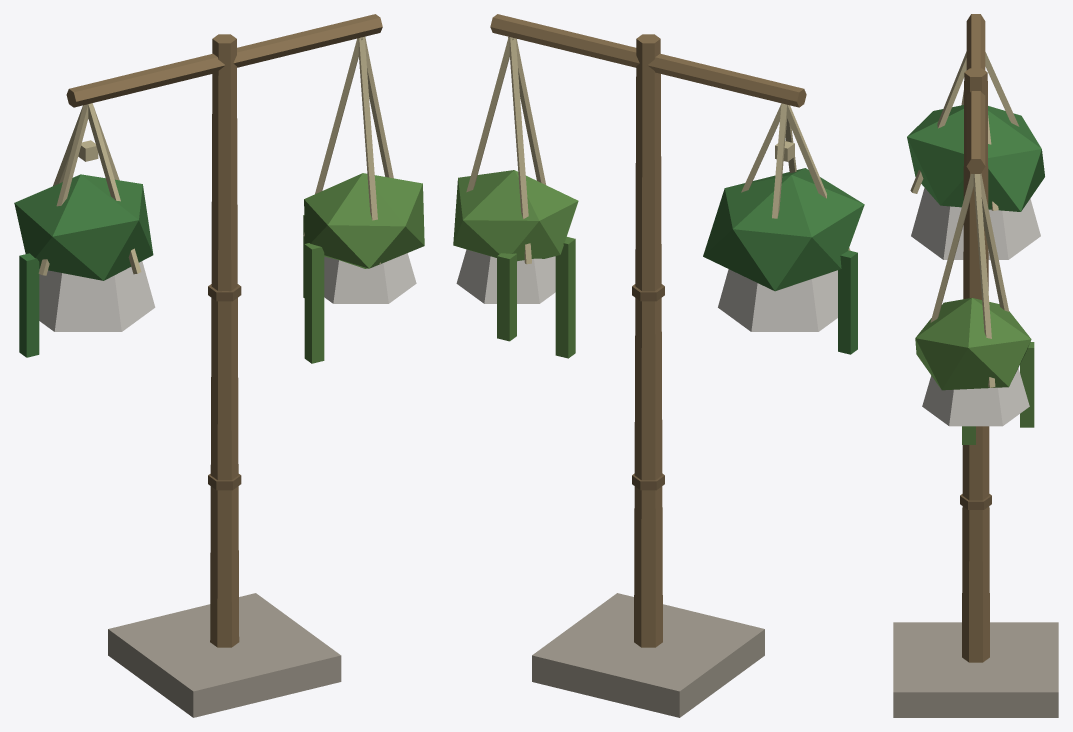
Rendered from plant-hanger-39.glb.
3 renders of one model, left to right at view 1: azimuth 30°, elevation 25°; view 2: azimuth 150°, elevation 25°; view 3: azimuth 270°, elevation 25°, orthographic. The views are drawn at different scales.
Parts seen in each view (by area): view 1: plant_hanger_39; view 2: plant_hanger_39; view 3: plant_hanger_39.
Boxes of the visible parts, bbox=[...] form: plant_hanger_39: bbox=[14, 14, 424, 717]; plant_hanger_39: bbox=[453, 14, 864, 717]; plant_hanger_39: bbox=[893, 14, 1058, 717].
Bounding box in the file's own units: 0.9429 × 1.43 × 0.35.
